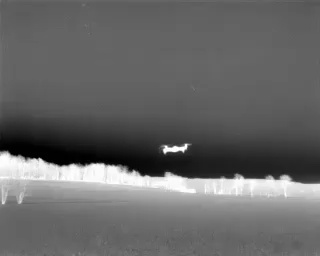DRONE: (156, 138, 195, 159)
